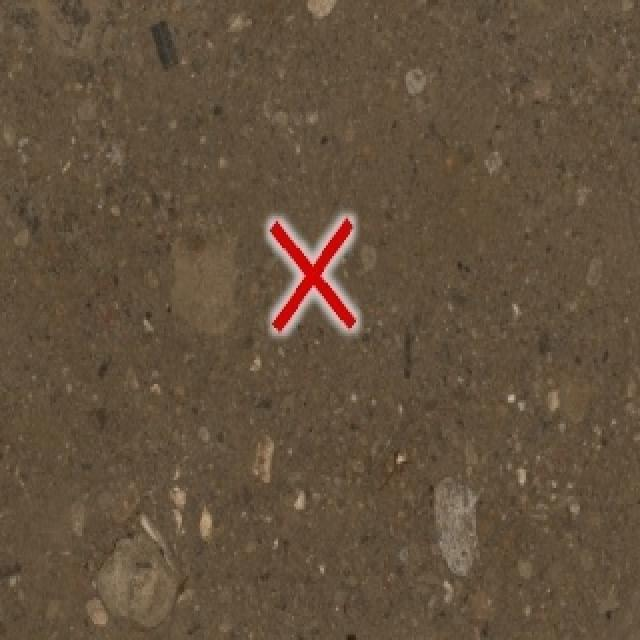x_marker: (269, 218, 355, 330)
